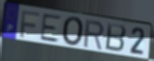2: (128, 26, 146, 57)
B: (104, 22, 128, 54)
E: (39, 13, 63, 44)
F: (19, 10, 41, 39)
O: (61, 16, 85, 48)
R: (83, 19, 106, 51)
